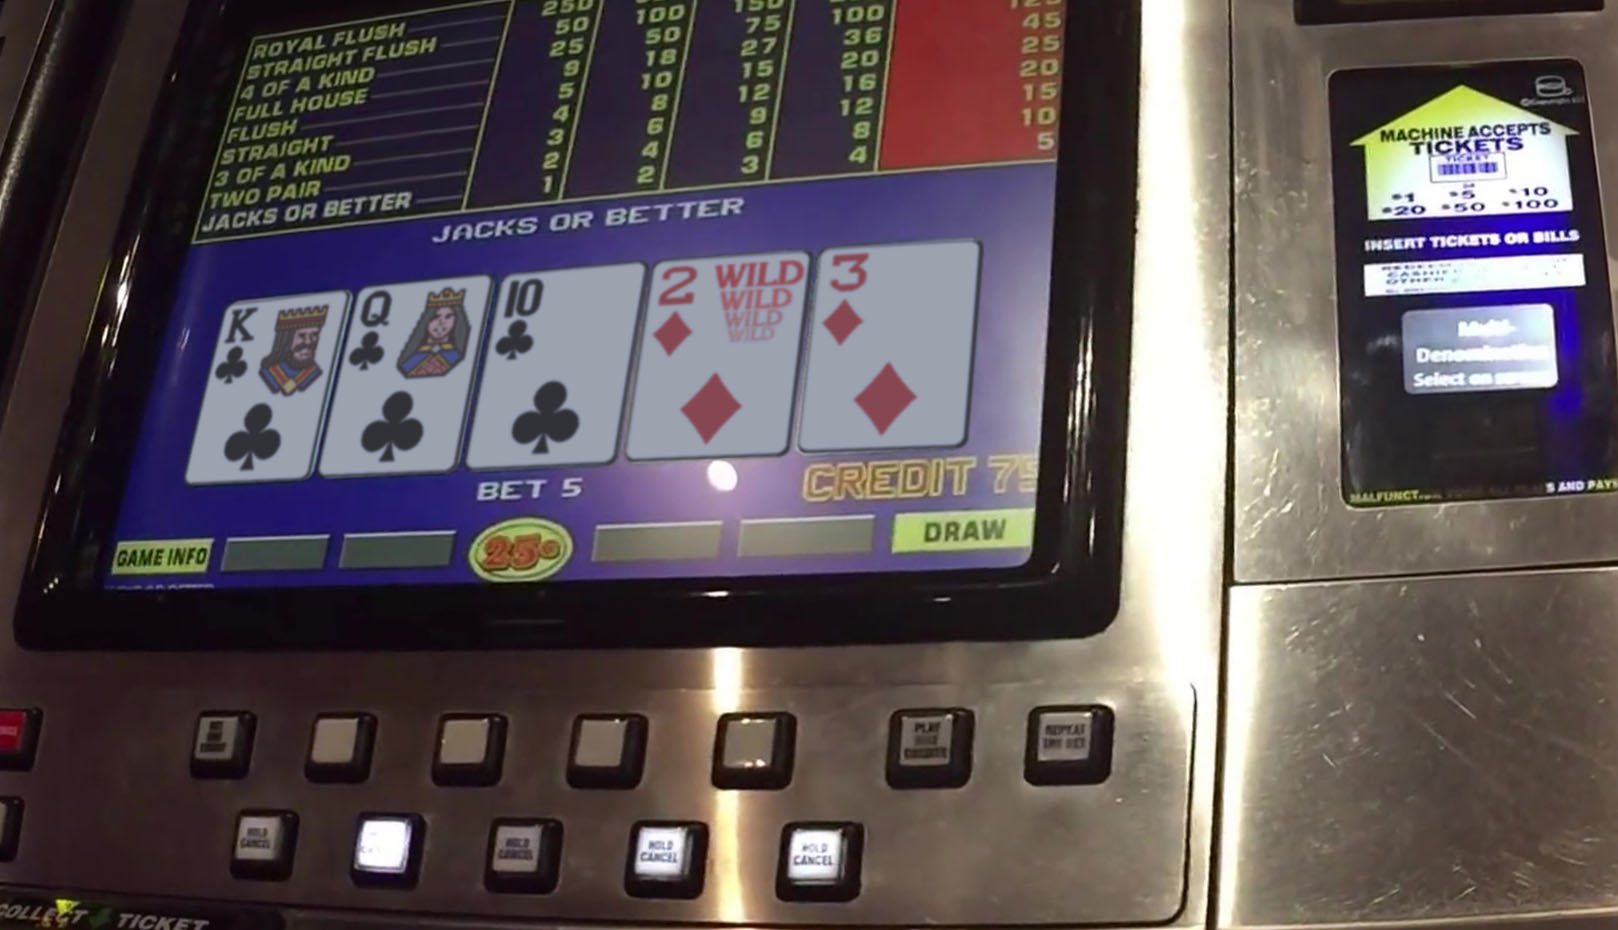CK: (214, 296, 334, 477)
CQ: (344, 280, 477, 471)
CT: (485, 268, 635, 464)
D2W: (645, 256, 792, 460)
D3: (821, 248, 965, 444)
